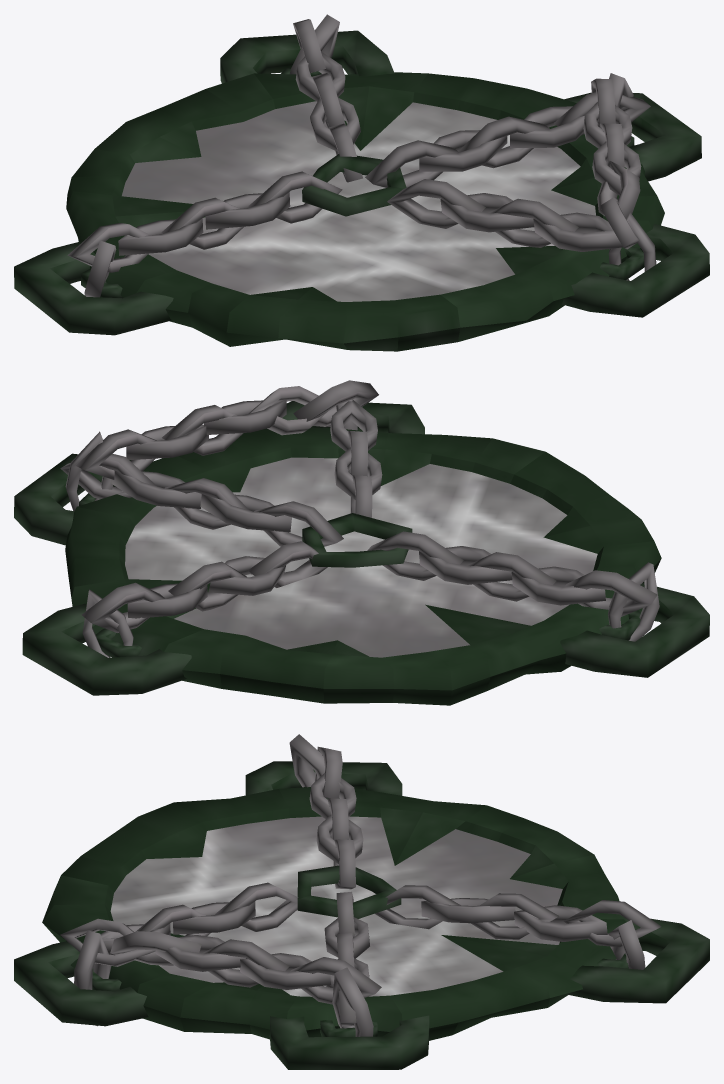
Rendered from ShieldBlackmetal.fbx.
The picture shows the model from 3 angles, top to bottom: view 1: azimuth 30°, elevation 25°; view 2: azimuth 150°, elevation 25°; view 3: azimuth 270°, elevation 25°; orthographic projection. The views are drawn at different scales.
Visible parts, largest first — view 1: attach; view 2: attach; view 3: attach.
Part boxes in pixels (x1,y1,x2,y2): attach: [14, 14, 709, 351]; attach: [14, 380, 709, 705]; attach: [14, 734, 709, 1069].
Size of the model in its own units: 1.04 by 0.1985 by 1.02.
1 material, 1 textured.
